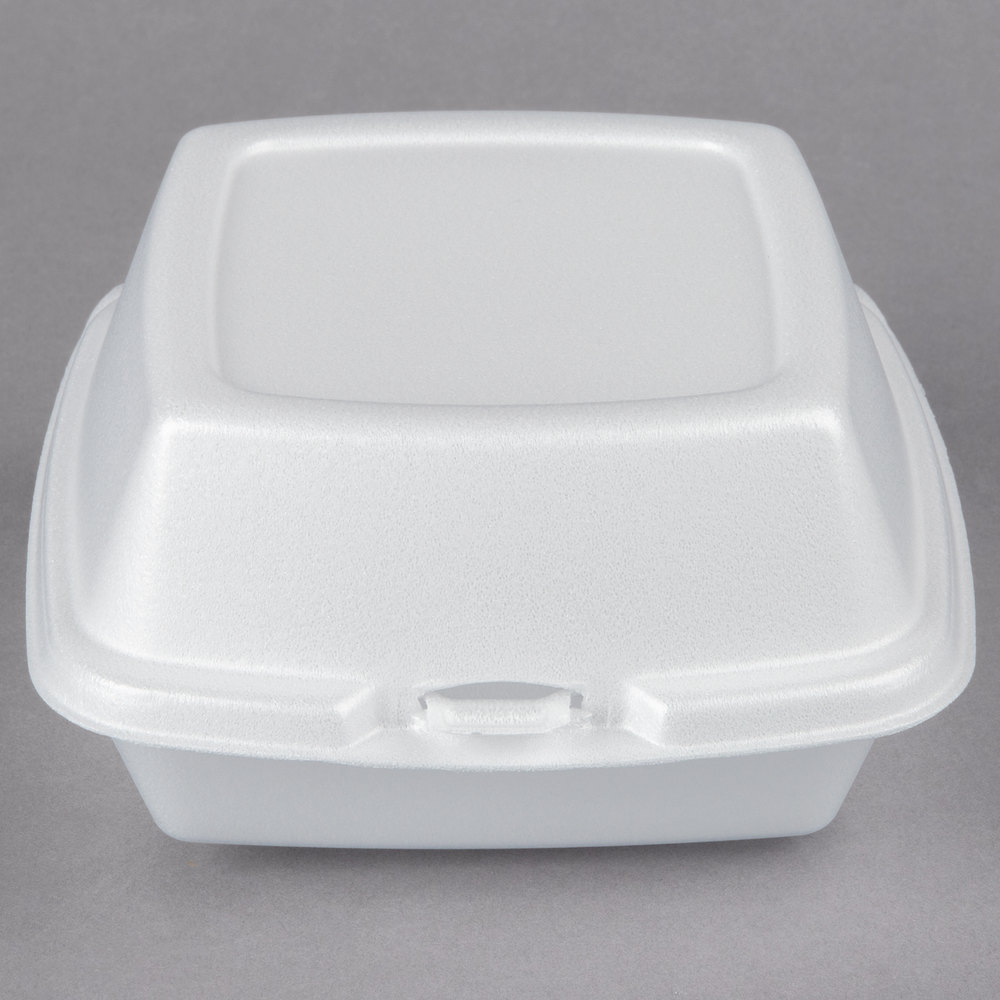styrofoam: (22, 104, 976, 855)
